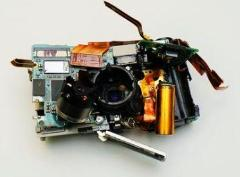electronic: (10, 0, 228, 162)
